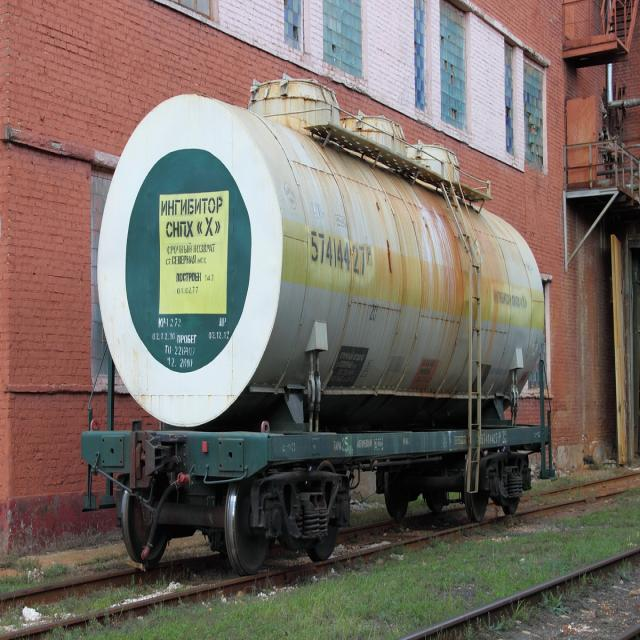tank: (73, 64, 562, 588)
